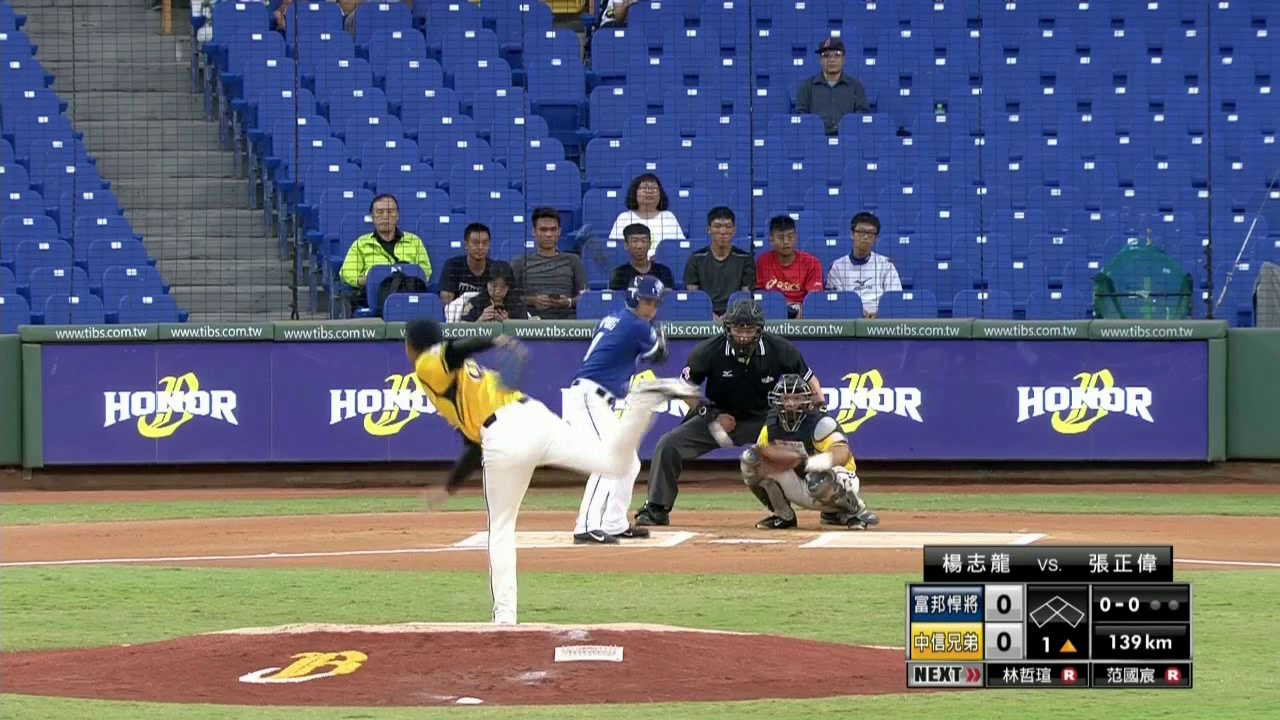ball: (709, 417, 735, 450)
base: (1028, 593, 1087, 629)
bat: (571, 228, 624, 294)
out: (1148, 597, 1181, 611)
score1: (986, 583, 1024, 621)
score2: (987, 622, 1023, 659)
session: (1035, 633, 1080, 654)
speed: (1105, 630, 1174, 652)
strikeball: (1097, 593, 1143, 614)
